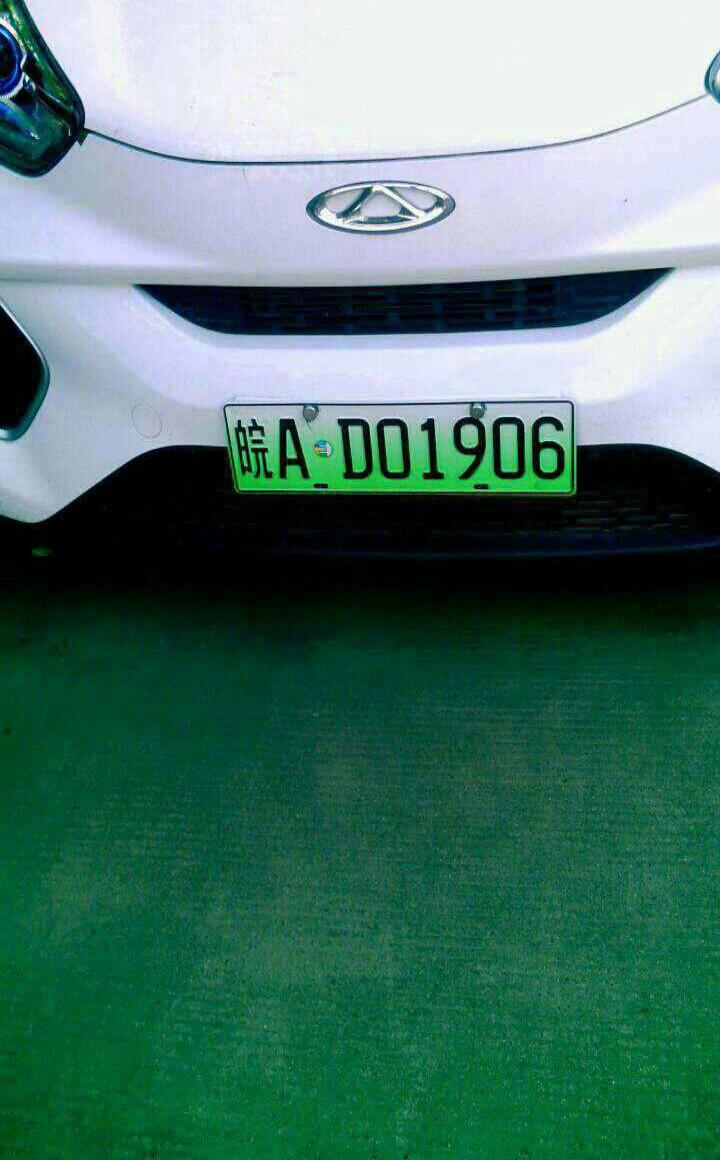car_id: (219, 401, 579, 494)
